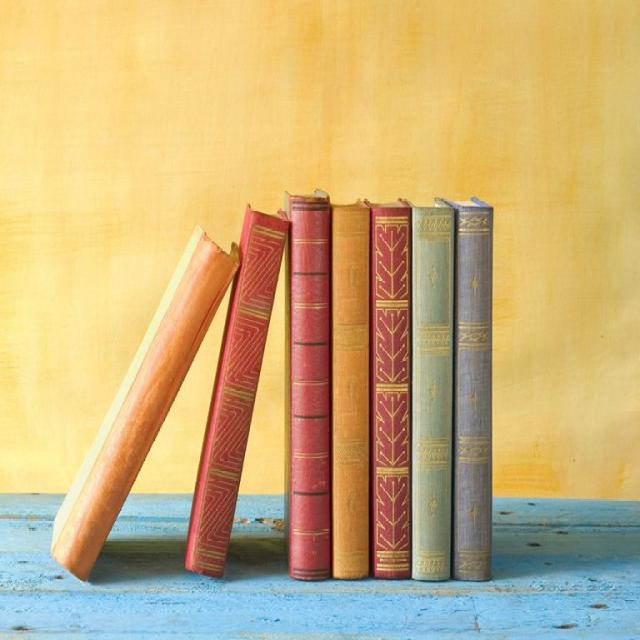Books: (52, 227, 239, 579), (185, 207, 289, 576), (436, 198, 494, 580), (286, 193, 331, 579), (412, 203, 454, 579), (370, 202, 410, 578), (331, 202, 370, 578)
